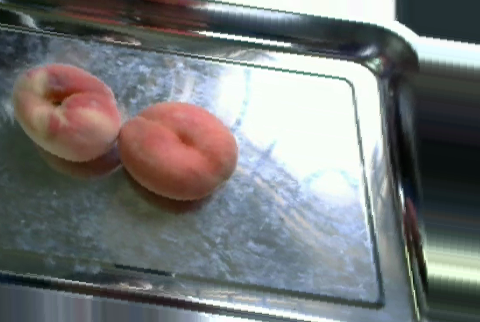Peach: (118, 101, 241, 199), (13, 62, 123, 162)
